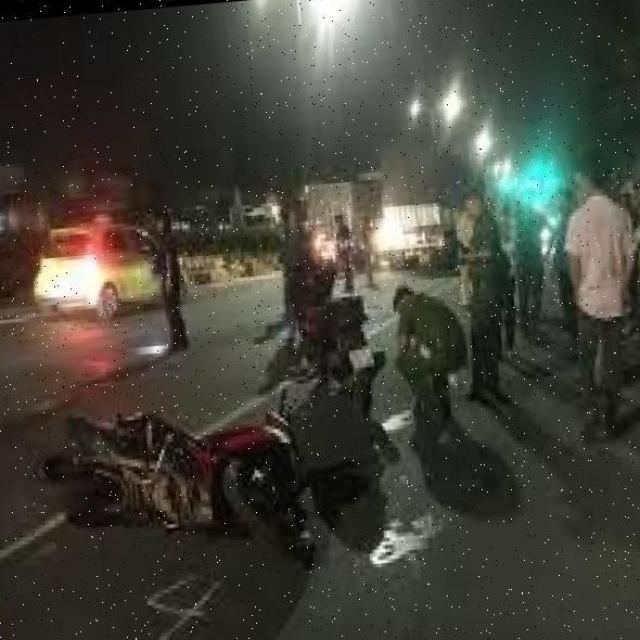accident: (32, 360, 337, 605)
